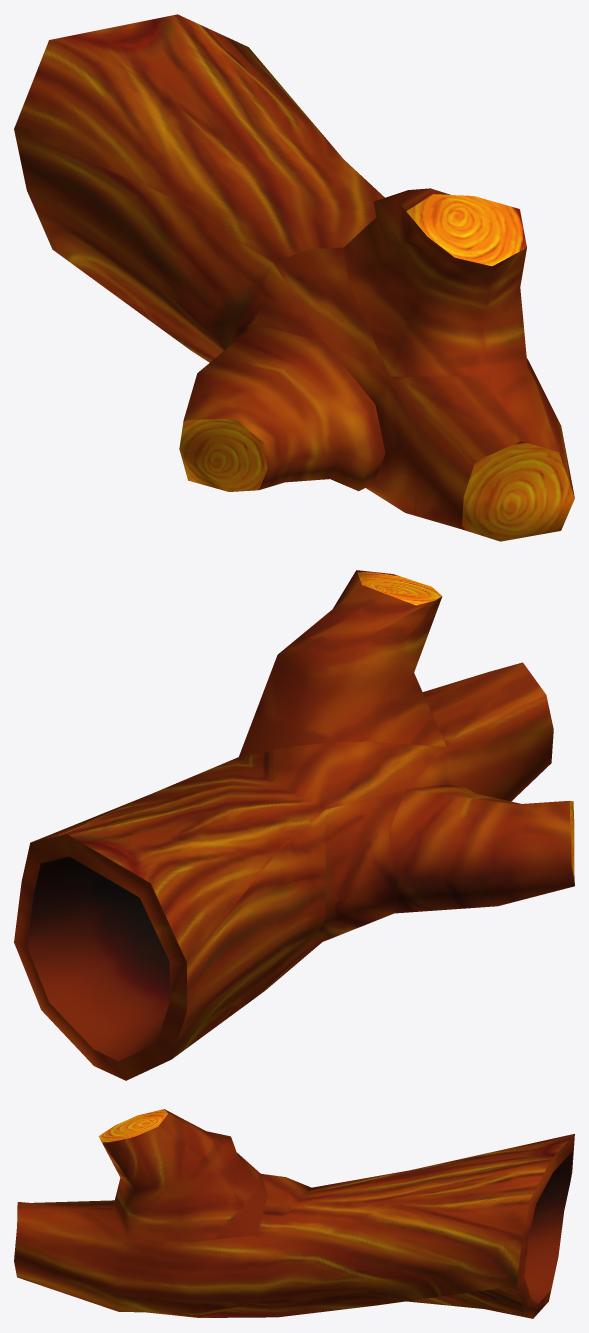
Rendered from Bough1.fbx.
3 views of the same model, one above another, from view 1: azimuth 30°, elevation 25°; view 2: azimuth 150°, elevation 25°; view 3: azimuth 270°, elevation 25° (orthographic). The views are drawn at different scales.
Visible parts, largest first — view 1: Bough1; view 2: Bough1; view 3: Bough1.
Boxes of the visible parts, bbox=[...] form: Bough1: bbox=[14, 14, 574, 541]; Bough1: bbox=[14, 570, 574, 1080]; Bough1: bbox=[14, 1109, 574, 1318].
Bounding box in the file's own units: 20.9 × 17.28 × 44.73.
